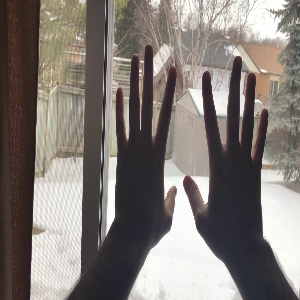hand: (183, 57, 269, 238), (115, 45, 177, 229)
